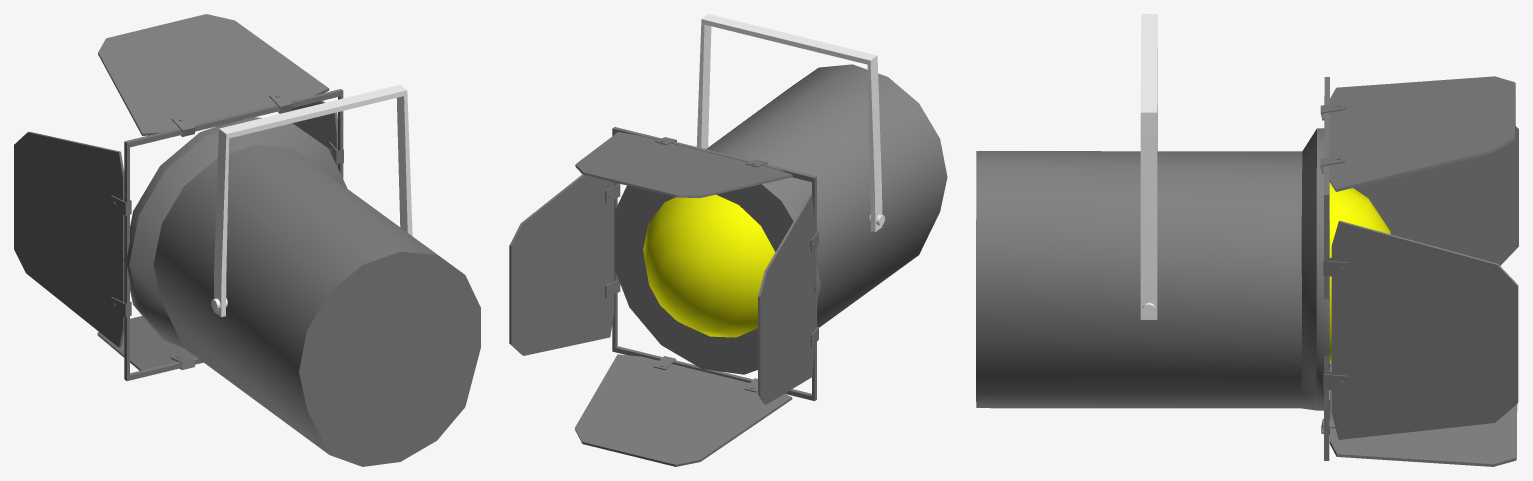
3 renders of one model, left to right at view 1: azimuth 30°, elevation 25°; view 2: azimuth 150°, elevation 25°; view 3: azimuth 270°, elevation 25°, orthographic. The views are drawn at different scales.
Visible parts, largest first — view 1: Cylinder_body_0, Cube_4, Cube_1, Cube_3, Cube, Cube_2, Cube_7; view 2: Cylinder_body_0, Cube_7, Cube_2, Sphere, Cube_4, Cube_1, Cube_3, Cube; view 3: Cylinder_body_0, Cube_7, Cube_1, Cube_4, Cube_2, Cube_3, Sphere, Cube.
Part boxes in pixels (x1=…): Cylinder_body_0: x1=123, y1=117, x2=480, y2=466; Cube_4: x1=14, y1=131, x2=124, y2=347; Cube_1: x1=98, y1=14, x2=329, y2=135; Cube_3: x1=213, y1=85, x2=412, y2=317; Cube: x1=124, y1=89, x2=343, y2=380; Cube_2: x1=97, y1=316, x2=195, y2=370; Cube_7: x1=279, y1=101, x2=337, y2=167; Cylinder_body_0: x1=614, y1=64, x2=947, y2=374; Cube_7: x1=509, y1=174, x2=614, y2=355; Cube_2: x1=575, y1=354, x2=792, y2=466; Sphere: x1=643, y1=194, x2=775, y2=337; Cube_4: x1=758, y1=193, x2=814, y2=404; Cube_1: x1=575, y1=132, x2=792, y2=197; Cube_3: x1=696, y1=14, x2=882, y2=231; Cube: x1=612, y1=127, x2=816, y2=401; Cylinder_body_0: x1=976, y1=128, x2=1329, y2=410; Cube_7: x1=1331, y1=220, x2=1518, y2=439; Cube_1: x1=1329, y1=76, x2=1515, y2=191; Cube_4: x1=1353, y1=126, x2=1518, y2=265; Cube_2: x1=1329, y1=362, x2=1517, y2=466; Cube_3: x1=1140, y1=14, x2=1157, y2=319; Sphere: x1=1329, y1=182, x2=1390, y2=362; Cube: x1=1324, y1=77, x2=1329, y2=460.
Bounding box in the file's own units: 2.02 × 2.36 × 3.17.
